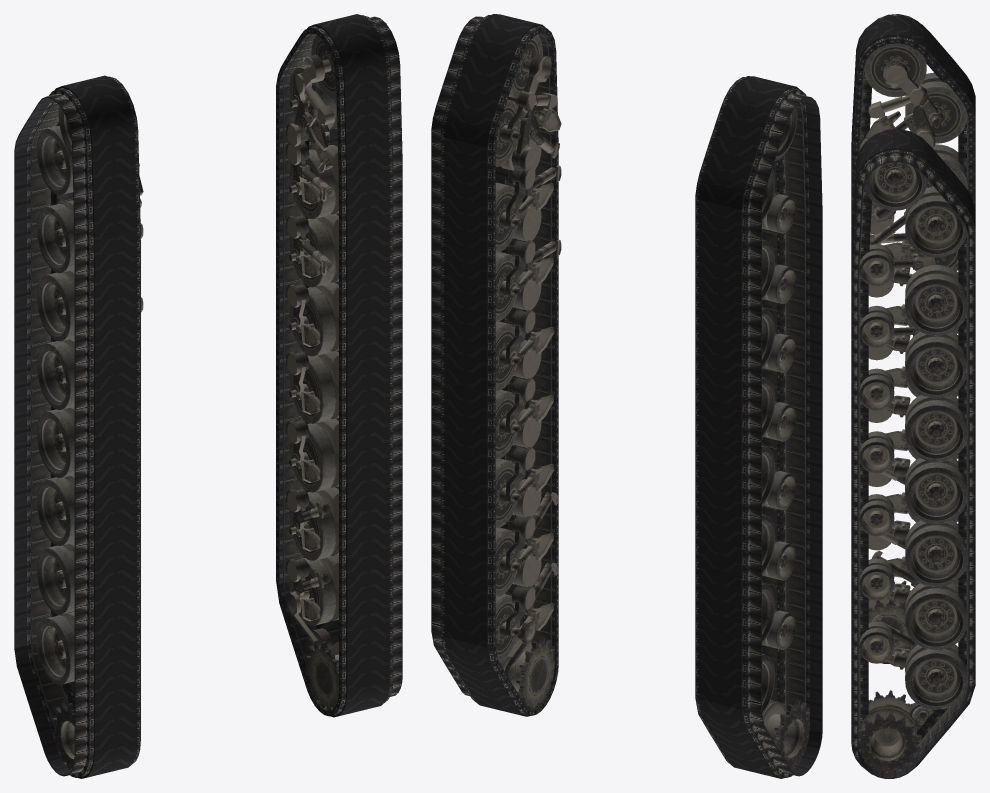
The model's file is Chassis.glb.
The picture shows the model from 3 angles, left to right: view 1: azimuth 30°, elevation 25°; view 2: azimuth 150°, elevation 25°; view 3: azimuth 270°, elevation 25°; orthographic projection. The views are drawn at different scales.
Parts seen in each view (by area): view 1: set_0_group_0, set_1_group_0, set_5_group_0, set_3_group_0, set_4_group_0; view 2: set_0_group_0, set_1_group_0, set_5_group_0, set_3_group_0, set_4_group_0; view 3: set_5_group_0, set_1_group_0, set_3_group_0, set_0_group_0.
Part boxes in pixels (x1,y1,x2,y2): set_0_group_0: (14,75,140,778); set_1_group_0: (276,14,402,717); set_5_group_0: (286,35,393,713); set_3_group_0: (36,106,143,775); set_4_group_0: (289,305,309,468); set_0_group_0: (695,76,822,778); set_1_group_0: (431,14,558,716); set_5_group_0: (495,34,561,709); set_3_group_0: (762,106,809,770); set_4_group_0: (499,325,526,503); set_5_group_0: (852,162,967,772); set_1_group_0: (851,129,975,778); set_3_group_0: (860,43,967,649); set_0_group_0: (851,14,975,663).
Size of the model in its own units: 3.67 by 7.32 by 1.31.
6 materials, 6 textured.
